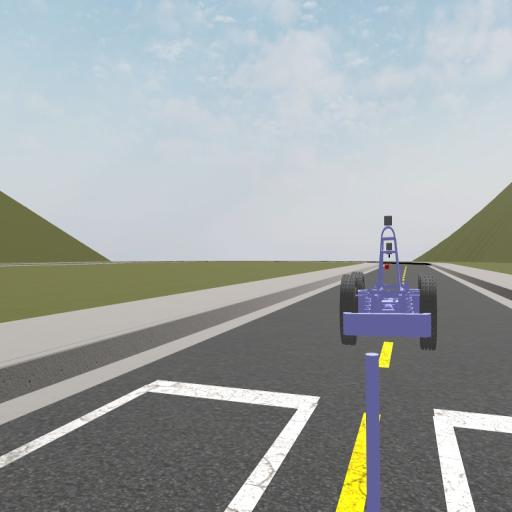ERP-42: (340, 214, 437, 351)
